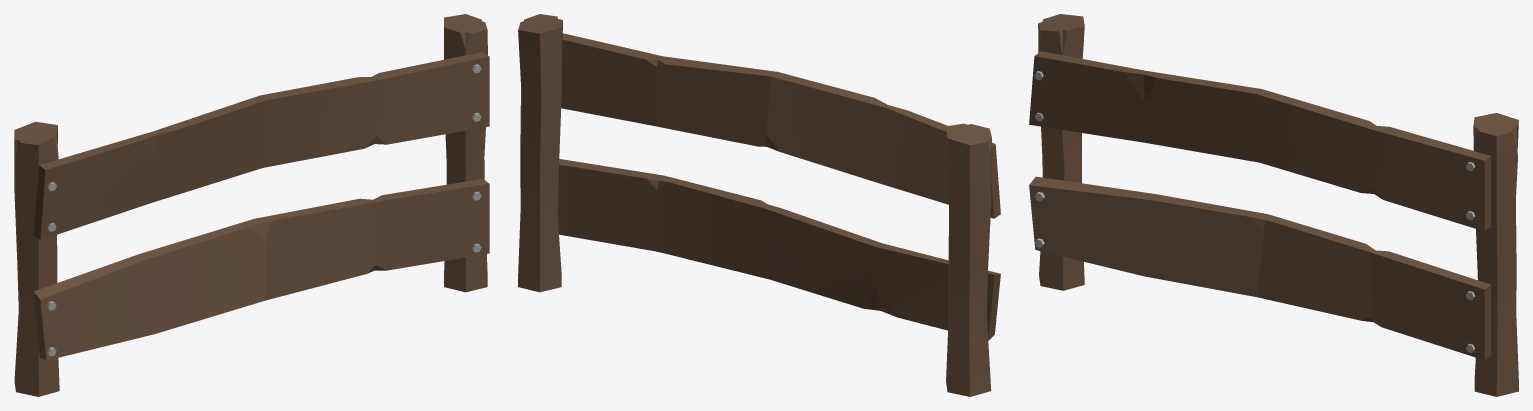
The model's file is Testfence.fbx.
The picture shows the model from 3 angles, left to right: view 1: azimuth 30°, elevation 25°; view 2: azimuth 150°, elevation 25°; view 3: azimuth 330°, elevation 25°; orthographic projection.
Visible parts, largest first — view 1: pCylinder3; view 2: pCylinder3; view 3: pCylinder3.
Boxes of the visible parts, left/top/right/bottom form: pCylinder3: left=14, top=14, right=489, bottom=396; pCylinder3: left=518, top=14, right=1000, bottom=396; pCylinder3: left=1029, top=14, right=1518, bottom=396.
Size of the model in its own units: 12.54 by 6.59 by 1.55.
